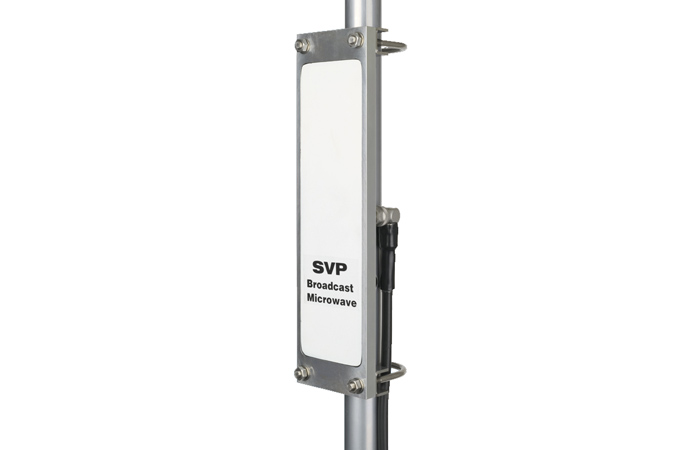sa: (272, 8, 432, 437)
